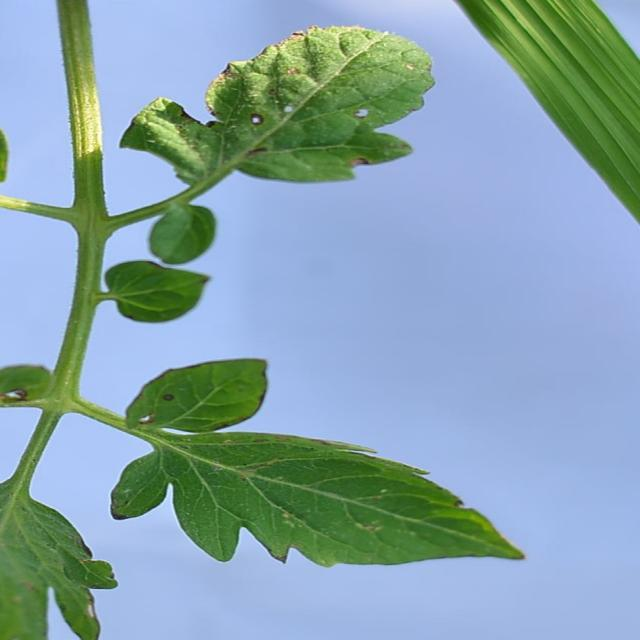infected: (107, 21, 435, 182), (127, 388, 481, 534), (0, 361, 37, 411)
